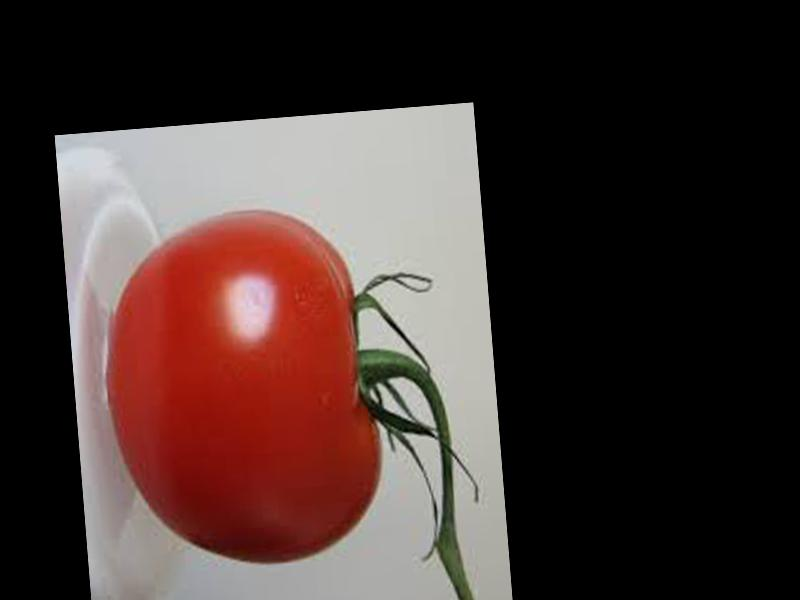Tomato: (95, 202, 389, 575)
